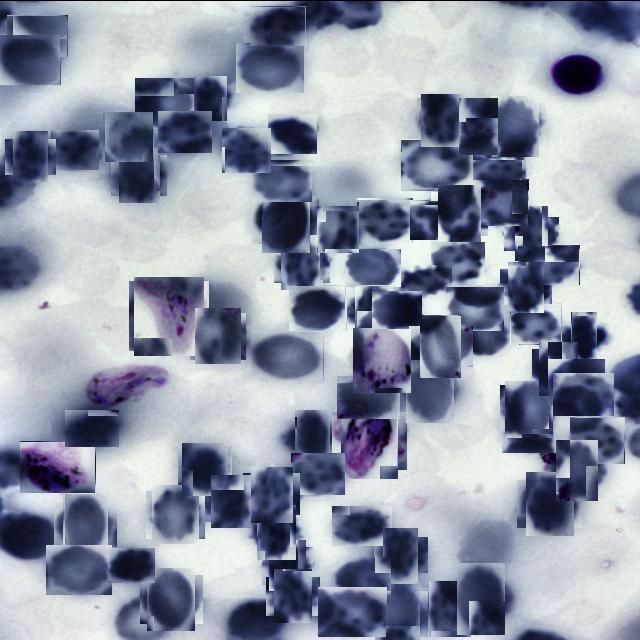difficult: (337, 408, 402, 473), (20, 440, 96, 492)
leukocyte: (549, 52, 607, 95)
red blood cell: (401, 138, 474, 190), (451, 568, 511, 629), (251, 330, 324, 380), (236, 42, 304, 92), (318, 586, 386, 636), (256, 190, 314, 248), (134, 76, 198, 128), (46, 544, 111, 594), (522, 474, 578, 532), (143, 570, 200, 626), (402, 362, 458, 418), (0, 33, 61, 84), (488, 98, 543, 153), (451, 308, 511, 357), (148, 487, 202, 541), (59, 496, 112, 550), (337, 374, 401, 418), (502, 382, 556, 434), (372, 586, 424, 640), (414, 319, 466, 372), (192, 309, 244, 362), (552, 444, 604, 496), (472, 178, 529, 225), (288, 284, 346, 330), (332, 556, 390, 602), (553, 372, 614, 415), (548, 358, 605, 404), (570, 416, 625, 463), (253, 158, 313, 201), (7, 14, 68, 56), (446, 286, 504, 330), (434, 188, 485, 238), (470, 146, 527, 190), (332, 504, 393, 545), (426, 584, 476, 634), (180, 443, 230, 493), (104, 111, 154, 161), (518, 244, 580, 284), (357, 198, 413, 242), (247, 468, 296, 518), (431, 240, 486, 284), (419, 95, 468, 144), (114, 150, 164, 198), (278, 237, 326, 286), (410, 199, 468, 239), (252, 508, 300, 556), (454, 102, 502, 150), (222, 126, 272, 172), (158, 110, 212, 152), (291, 452, 345, 494), (250, 5, 306, 45), (208, 477, 255, 524), (510, 302, 562, 344), (536, 345, 582, 392), (345, 248, 401, 286), (351, 288, 397, 334), (270, 572, 316, 618), (65, 408, 120, 446), (509, 210, 554, 256), (290, 414, 336, 459), (502, 414, 556, 452), (378, 532, 423, 576), (268, 113, 317, 153), (266, 543, 310, 587), (504, 264, 548, 308), (8, 134, 52, 178), (316, 206, 360, 250), (51, 129, 99, 169), (372, 290, 422, 328), (108, 547, 155, 582), (398, 264, 452, 294), (564, 316, 604, 356), (191, 78, 230, 118)
trophozoite: (132, 278, 206, 352), (351, 328, 413, 390), (87, 364, 169, 406)
